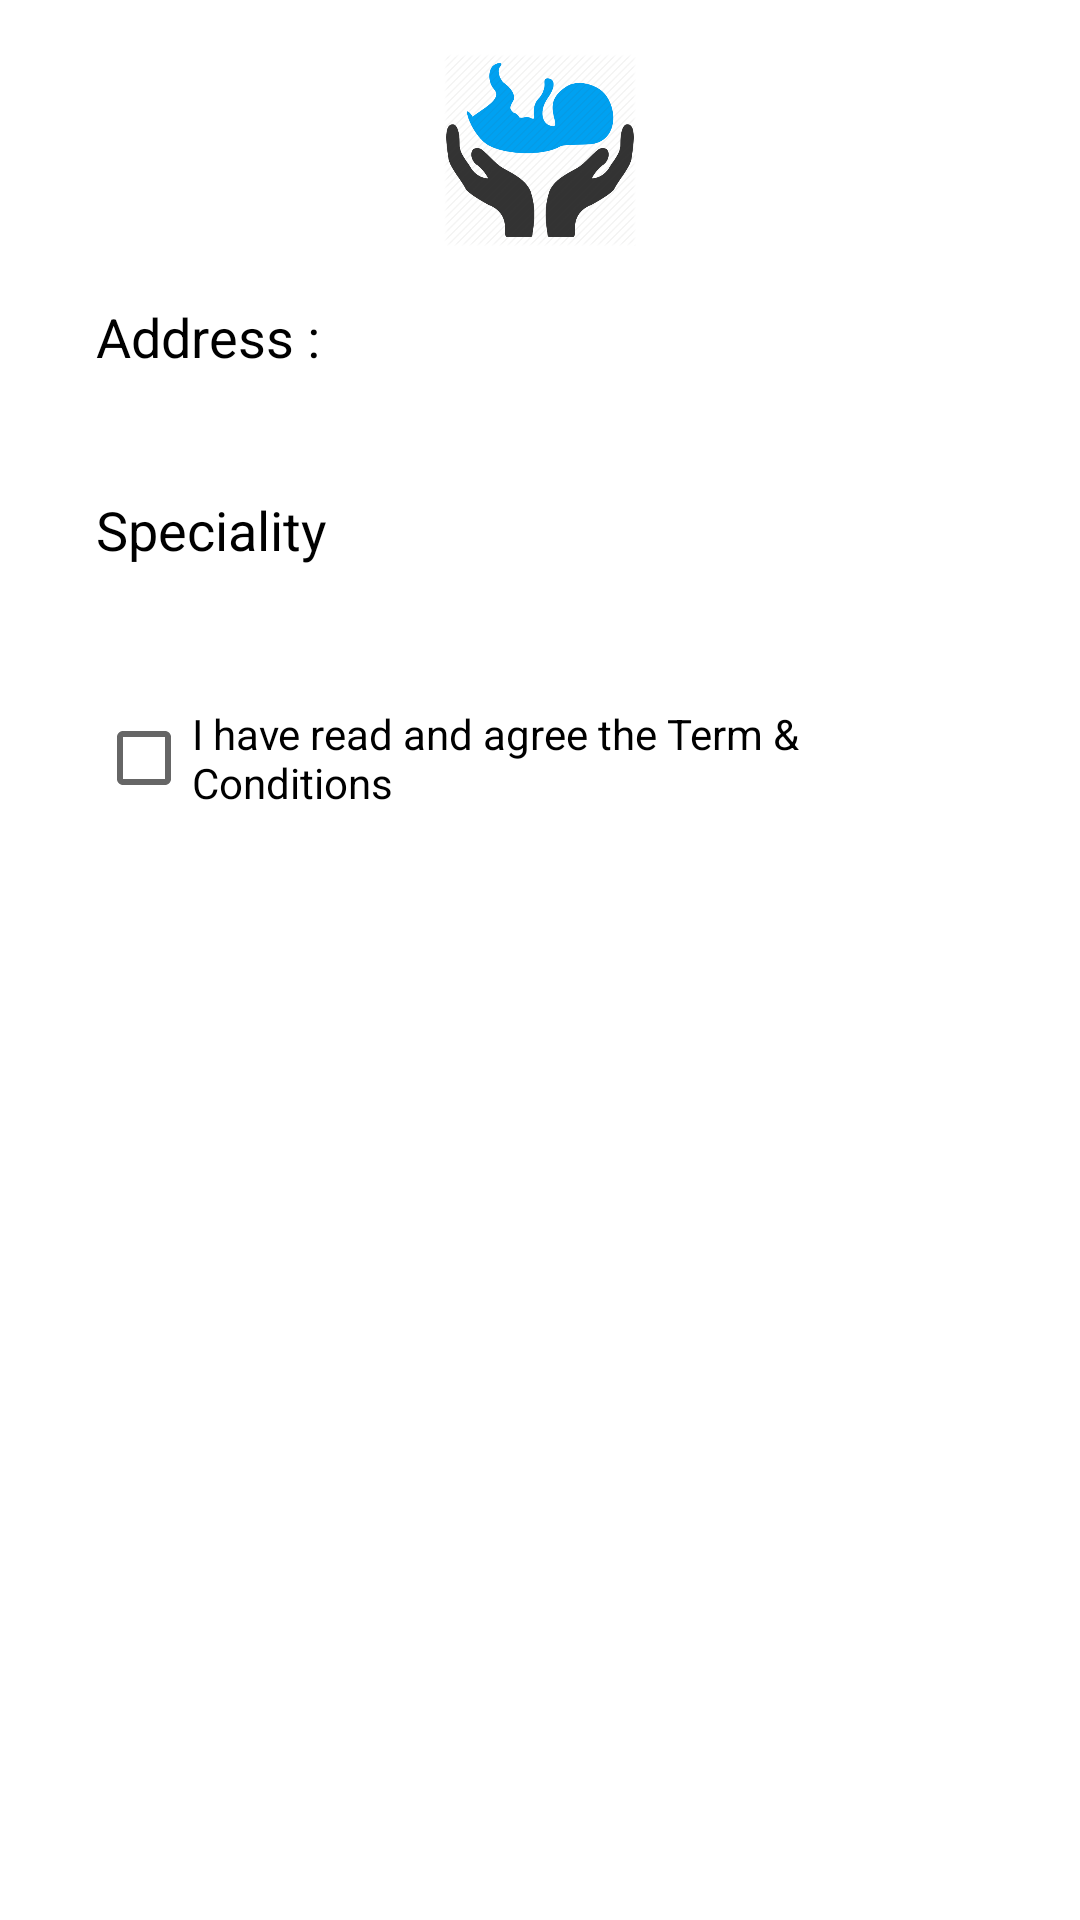

Screen size 1080x1920. Icon name, then its center in pixels as (x,y):
child helth: (540,150)
